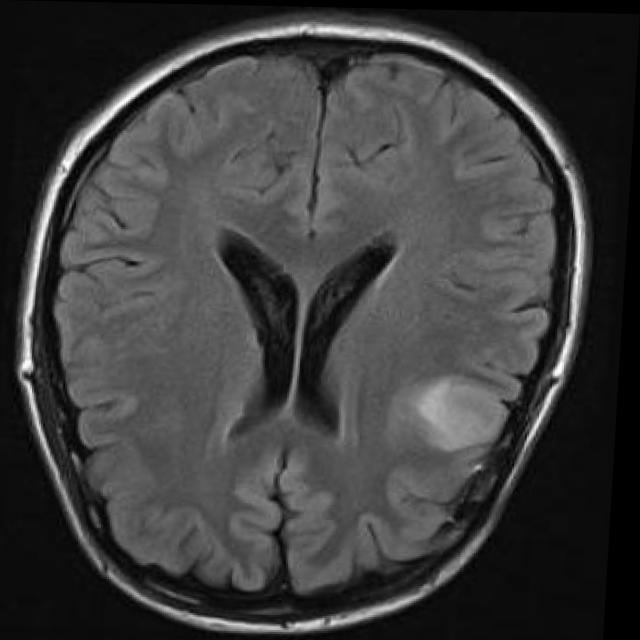Tumor: (424, 381, 517, 449)
